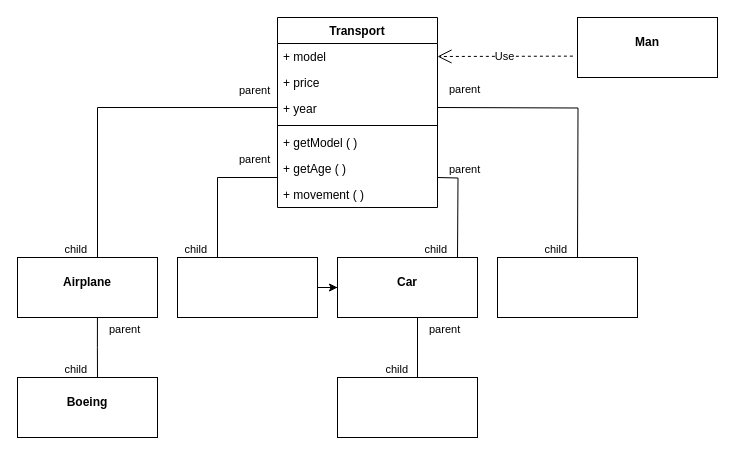
This 735x455 diagram has some shape labels left out. The shapes that lost their labels are listed below. From the top down, each one's centre as x and y in pixels, then its label:
At (247,287): "Airbus".
At (567,287): "Truck".
At (407,407): "Mercedes".
